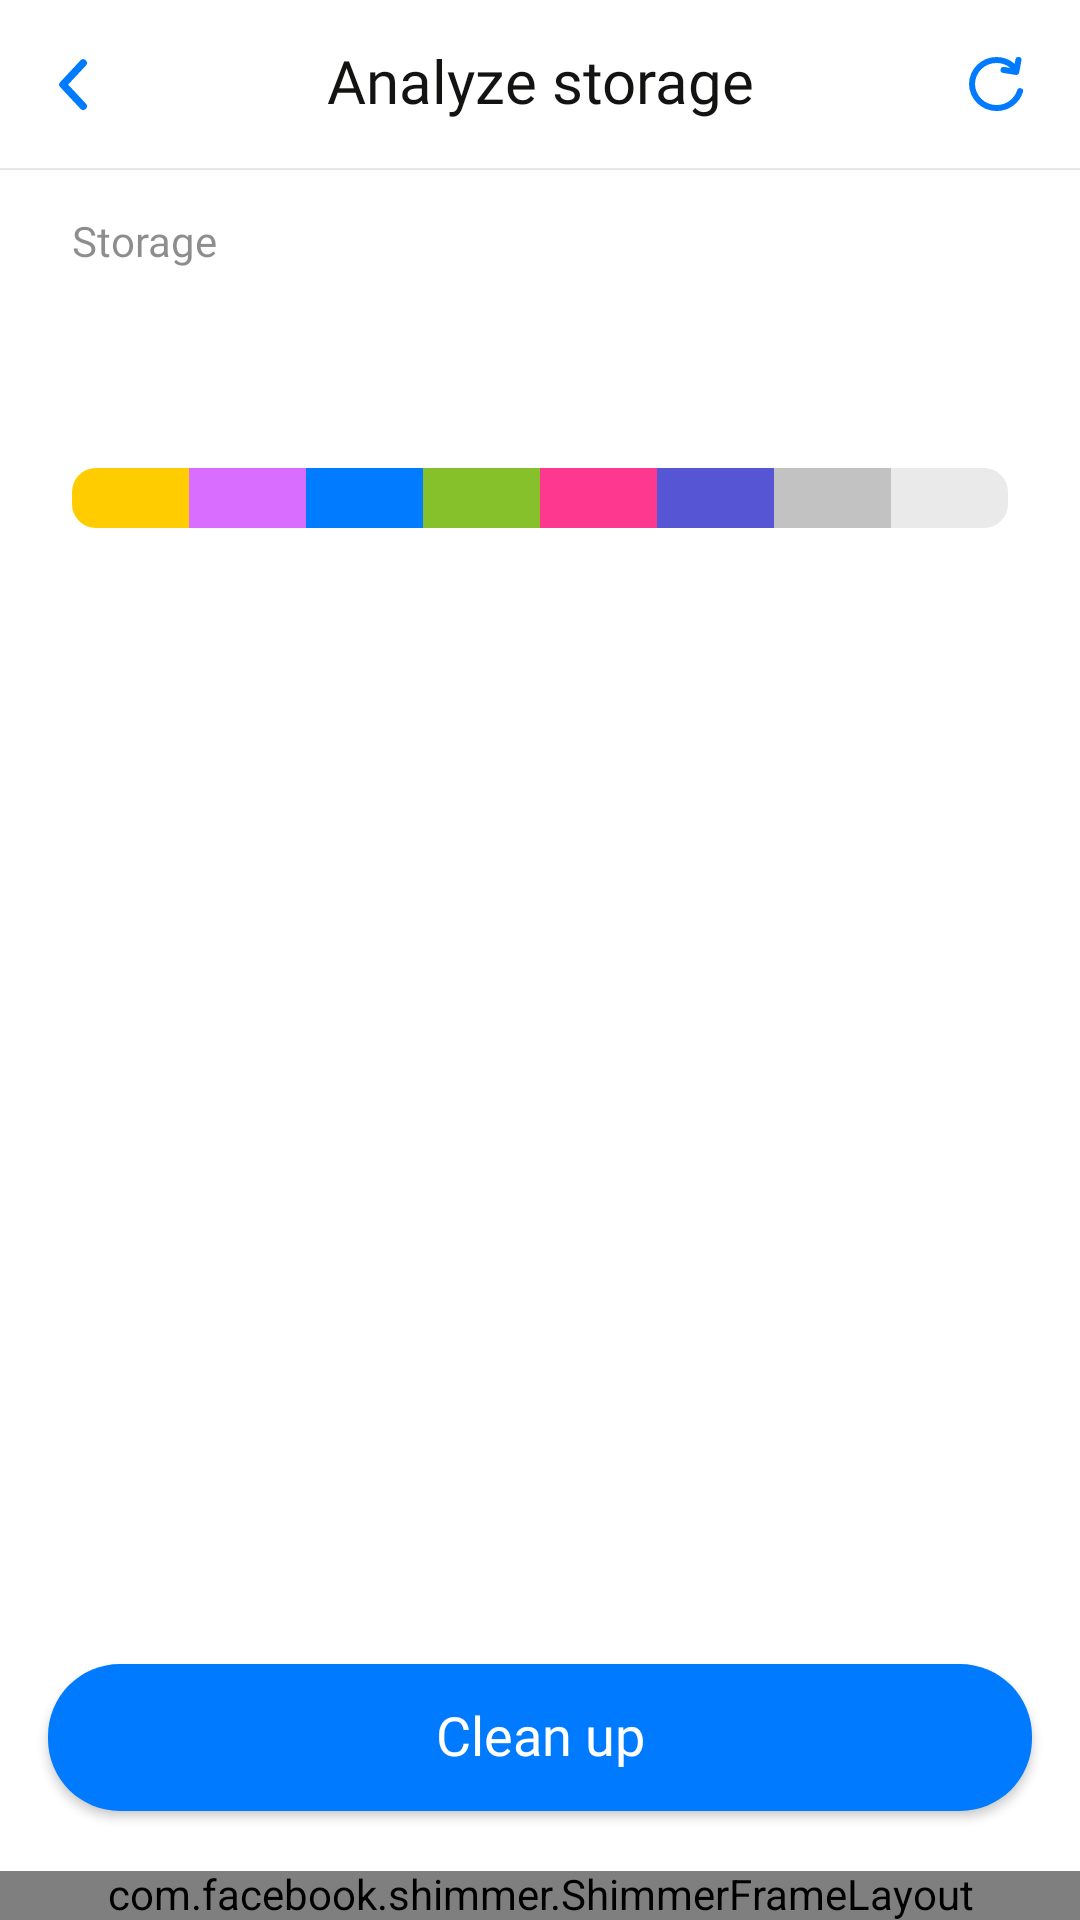

Icon bounding boxes for this 1080w x 1920h phone screenshot, format (x1, y1, x2, y2):
back: (59, 59, 87, 110)
refresh: (969, 57, 1024, 111)
